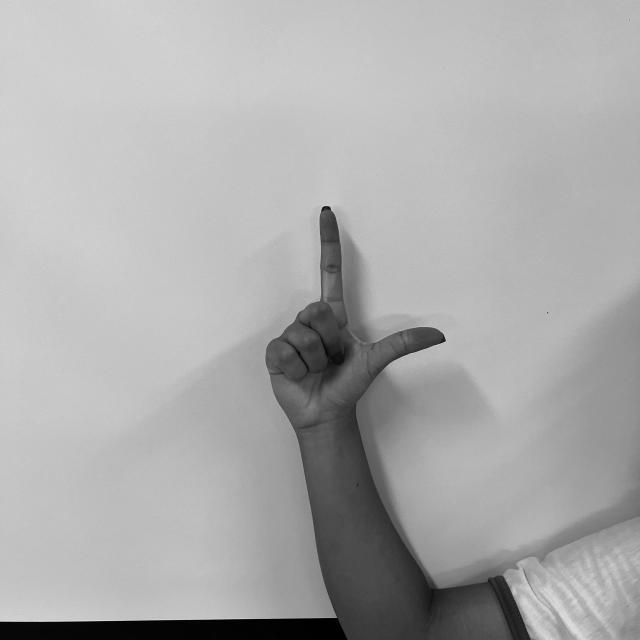Letra L: (260, 202, 450, 430)
